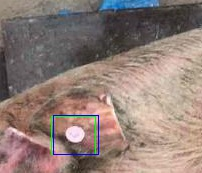text: (51, 116, 95, 154)
